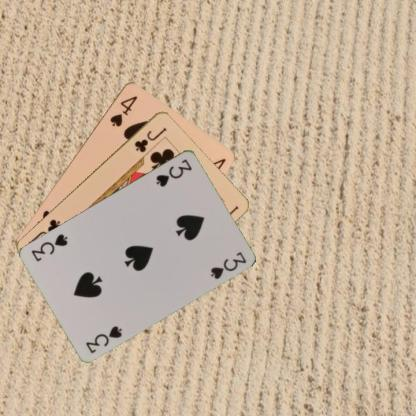3s: (82, 322, 124, 355), (153, 156, 193, 188)
4s: (107, 92, 139, 128)
Jc: (132, 124, 168, 154)
